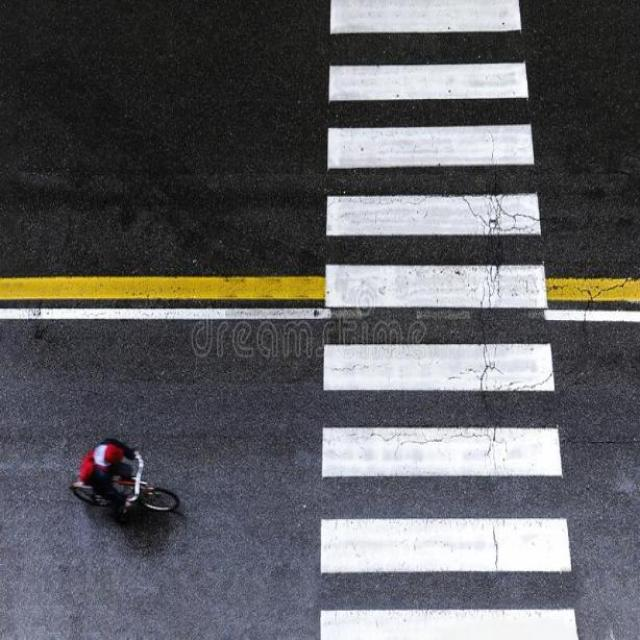pedestrian lane: (319, 0, 577, 640)
